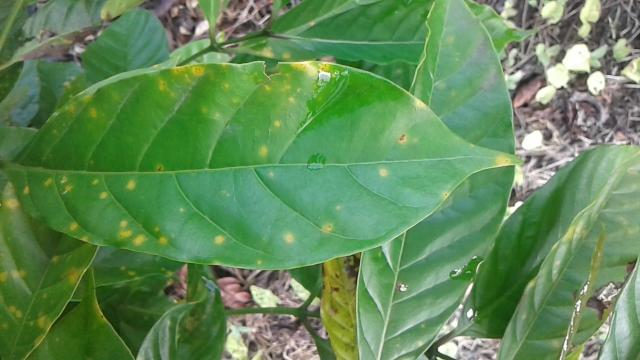rust_level_2: (8, 55, 536, 272)
